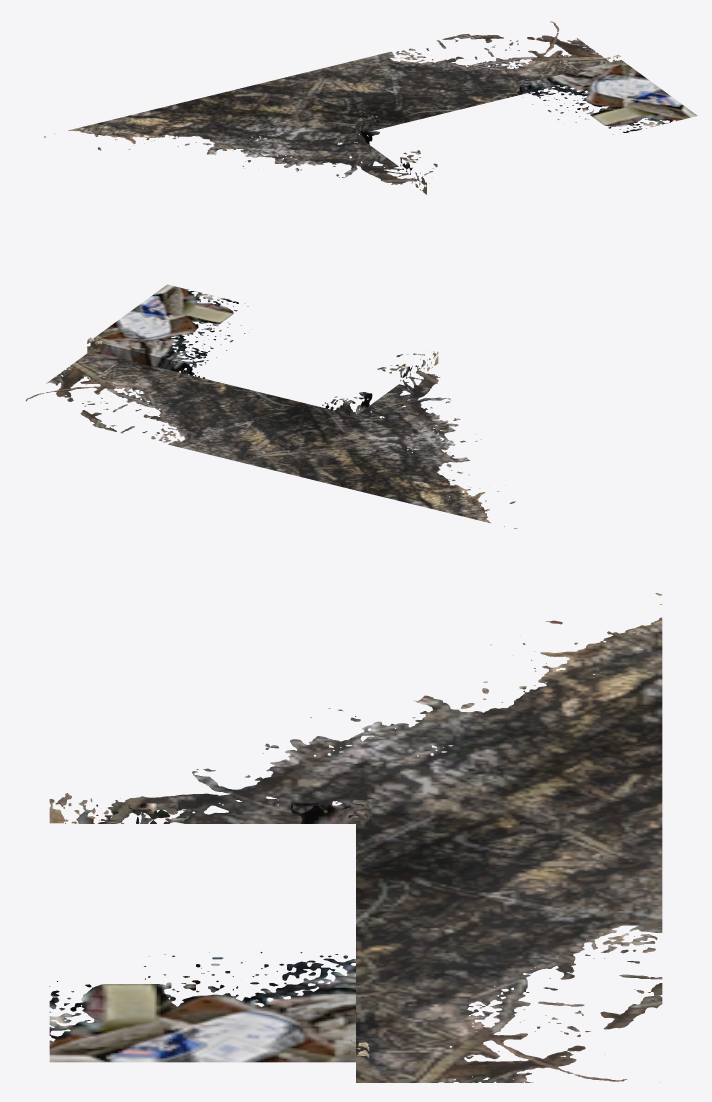
File: RoadSideWalk01.fbx
The picture shows the model from 3 angles, top to bottom: view 1: azimuth 30°, elevation 25°; view 2: azimuth 150°, elevation 25°; view 3: azimuth 270°, elevation 25°; orthographic projection. The views are drawn at different scales.
Parts seen in each view (by area): view 1: RoadSideWalk01; view 2: RoadSideWalk01; view 3: RoadSideWalk01.
Boxes of the visible parts, x1=… form: RoadSideWalk01: x1=44, y1=21, x2=697, y2=194; RoadSideWalk01: x1=25, y1=284, x2=517, y2=528; RoadSideWalk01: x1=49, y1=593, x2=662, y2=1082.
Size of the model in its own units: 800 by 23.07 by 400.
